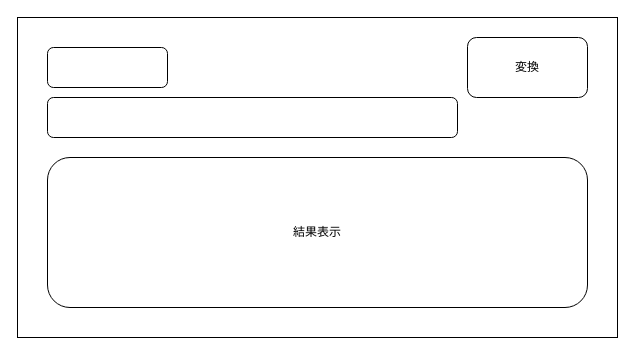
This 635x355 diagram has some shape labels left out. Here are the shapes that lost their labels. From the top down, the centre of each, then its label:
At [107,67]: "アップロード".
At [252,117]: "音楽".
